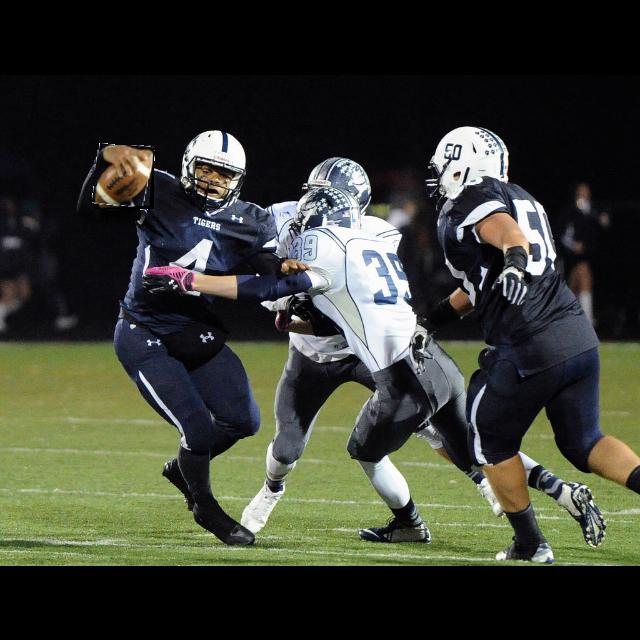Football: (94, 145, 154, 209)
